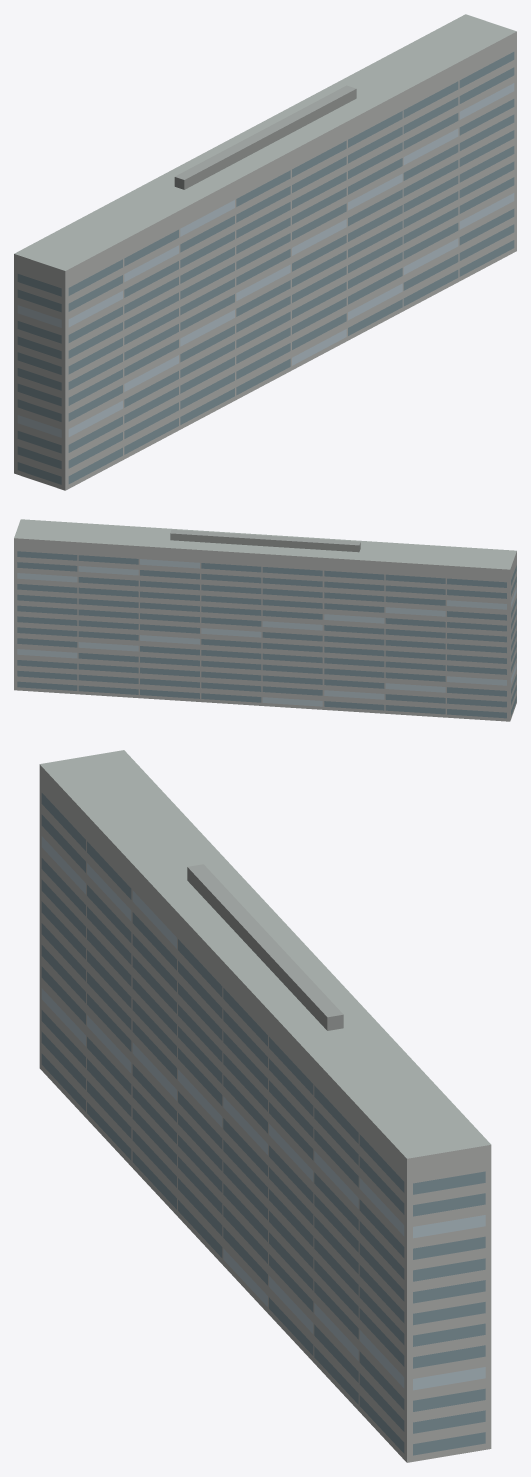
The model's file is fallback-daechi-eunma-31.glb.
3 renders of one model, top to bottom at view 1: azimuth 30°, elevation 25°; view 2: azimuth 150°, elevation 25°; view 3: azimuth 270°, elevation 25°, orthographic. The views are drawn at different scales.
Parts seen in each view (by area): view 1: fallback-daechi-eunma-31; view 2: fallback-daechi-eunma-31; view 3: fallback-daechi-eunma-31.
Boxes of the visible parts, <box> form: fallback-daechi-eunma-31: <box>14,14,516,490</box>; fallback-daechi-eunma-31: <box>14,519,516,721</box>; fallback-daechi-eunma-31: <box>39,750,491,1462</box>.
Bounding box in the file's own units: 123 × 44.62 × 57.51.
